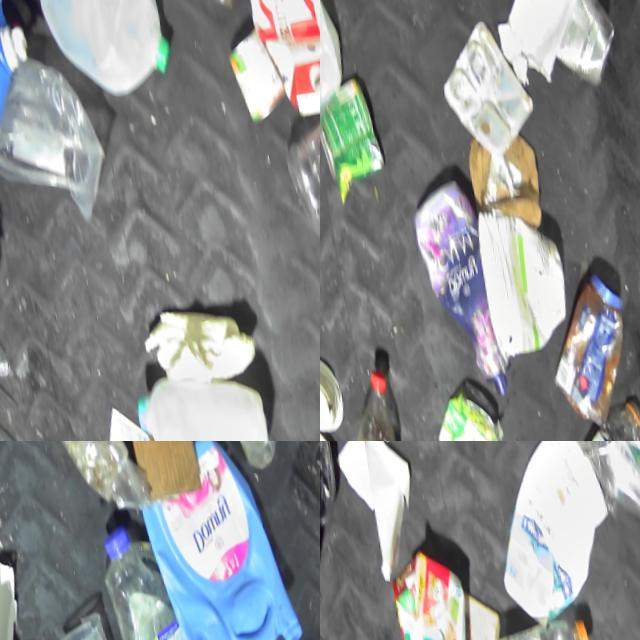can: (320, 67, 384, 202), (534, 0, 618, 97)
milk_jug: (471, 441, 615, 626), (16, 0, 175, 104), (117, 370, 266, 441)
non_white_jug: (135, 483, 301, 640), (398, 166, 503, 405), (378, 553, 476, 640)
plastic_bottle: (525, 441, 640, 520), (267, 95, 320, 240), (320, 348, 394, 441), (477, 609, 587, 640)
